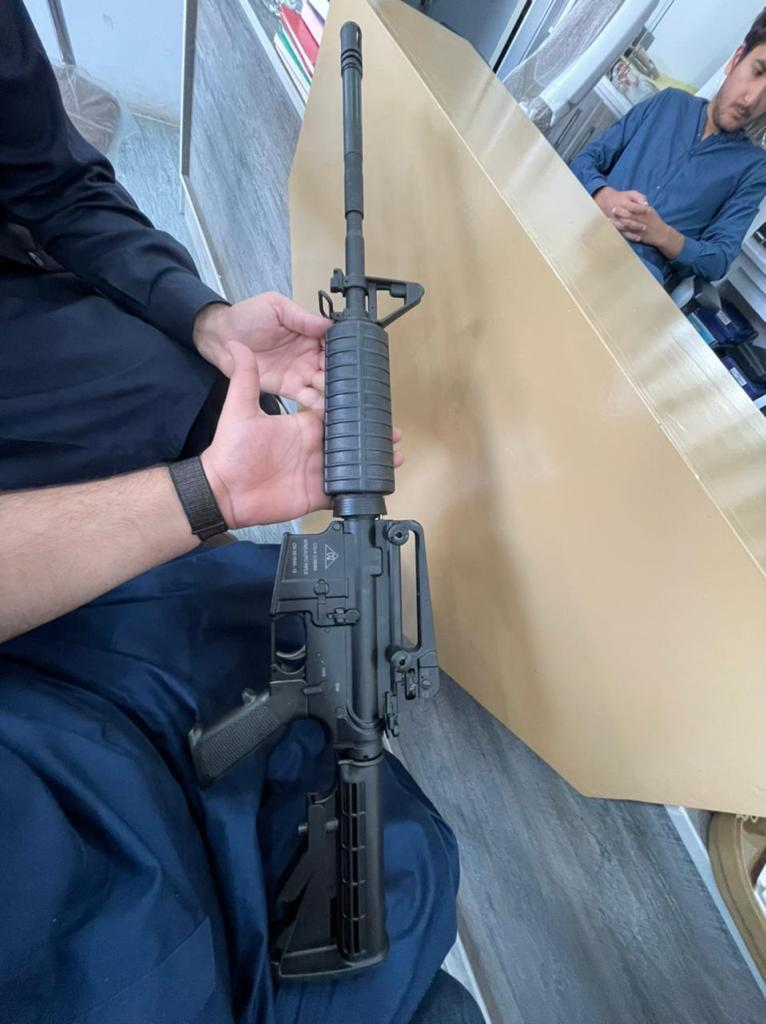weapon: (191, 20, 442, 988)
